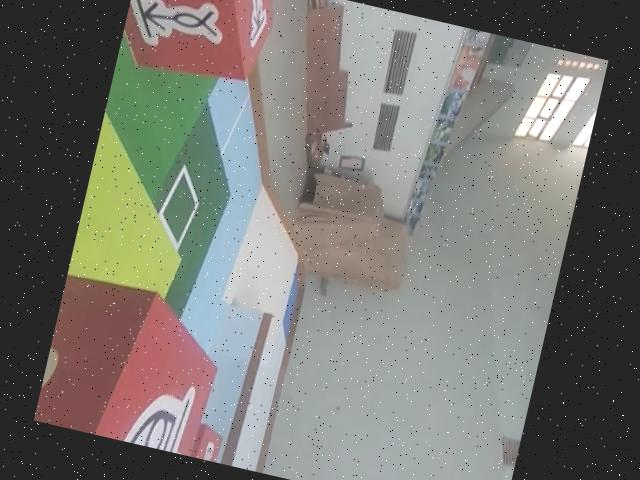R2 Real: (32, 266, 236, 459), (115, 0, 279, 91)
